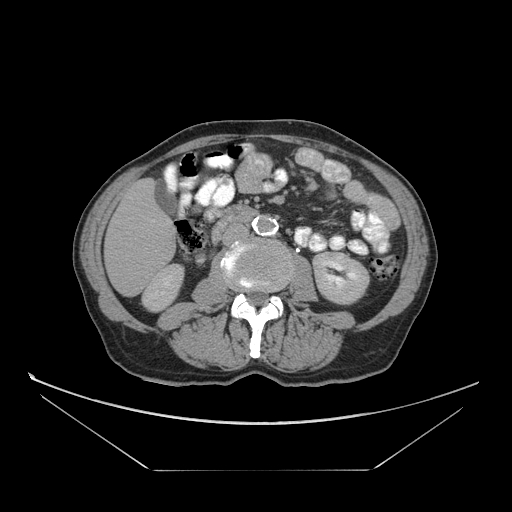left_kidney: (136, 260, 196, 315)
right_kidney: (307, 247, 376, 305)
